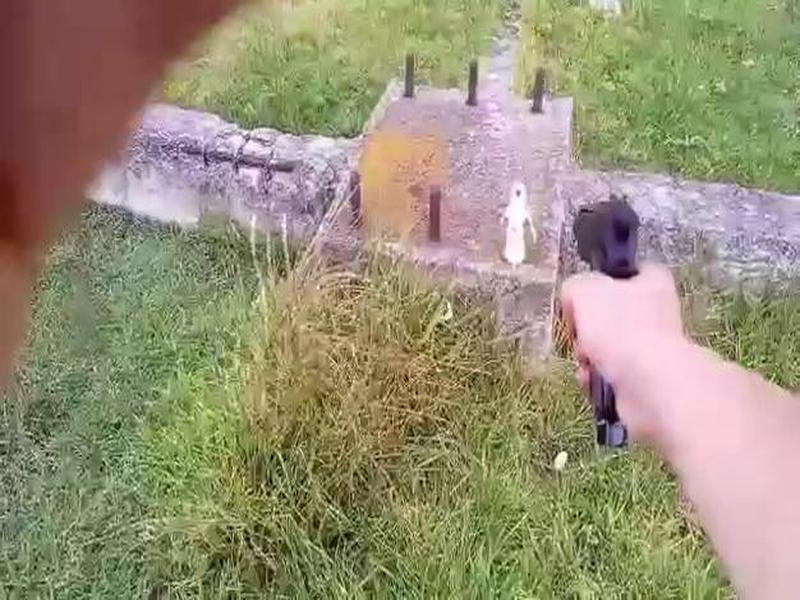Pistola: (554, 184, 676, 443)
